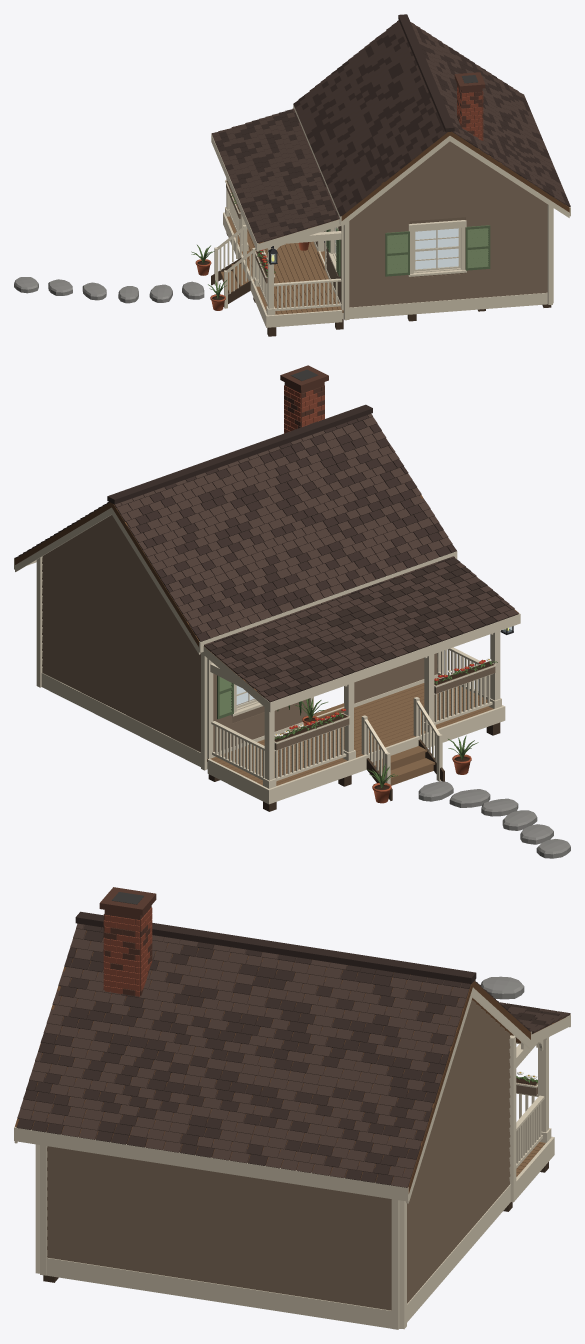
The model's file is ImeriExterior.glb.
3 renders of one model, top to bottom at view 1: azimuth 30°, elevation 25°; view 2: azimuth 150°, elevation 25°; view 3: azimuth 270°, elevation 25°, orthographic. The views are drawn at different scales.
Visible parts, largest first — view 1: ImeriTecho, ImeriParedes, ImeriBase, ImeriVentanas, ImeriPorche, ImeriSenda, ImeriChimenea, ImeriJardin; view 2: ImeriTecho, ImeriParedes, ImeriBase, ImeriPorche, ImeriJardin, ImeriSenda, ImeriChimenea, ImeriVentanas; view 3: ImeriTecho, ImeriParedes, ImeriChimenea, ImeriPorche, ImeriBase, ImeriSenda.
Part boxes in pixels (left/top/right/bottom): ImeriTecho: left=211, top=14, right=570, bottom=251; ImeriParedes: left=313, top=141, right=553, bottom=320; ImeriBase: left=211, top=212, right=551, bottom=336; ImeriVentanas: left=326, top=225, right=490, bottom=276; ImeriPorche: left=214, top=178, right=341, bottom=315; ImeriSenda: left=14, top=277, right=204, bottom=303; ImeriChimenea: left=454, top=72, right=485, bottom=140; ImeriJardin: left=191, top=180, right=309, bottom=310; ImeriTecho: left=14, top=404, right=520, bottom=712; ImeriParedes: left=36, top=515, right=443, bottom=770; ImeriBase: left=207, top=677, right=505, bottom=811; ImeriPorche: left=210, top=631, right=501, bottom=799; ImeriJardin: left=274, top=658, right=497, bottom=803; ImeriSenda: left=418, top=781, right=570, bottom=858; ImeriChimenea: left=280, top=365, right=328, bottom=433; ImeriVentanas: left=217, top=675, right=257, bottom=719; ImeriTecho: left=14, top=911, right=570, bottom=1203; ImeriParedes: left=35, top=1000, right=516, bottom=1329; ImeriChimenea: left=99, top=887, right=156, bottom=996; ImeriPorche: left=516, top=1037, right=551, bottom=1168; ImeriBase: left=43, top=1136, right=554, bottom=1282; ImeriSenda: left=480, top=976, right=524, bottom=999.
Size of the model in its own units: 15.64 by 7.36 by 10.23.
